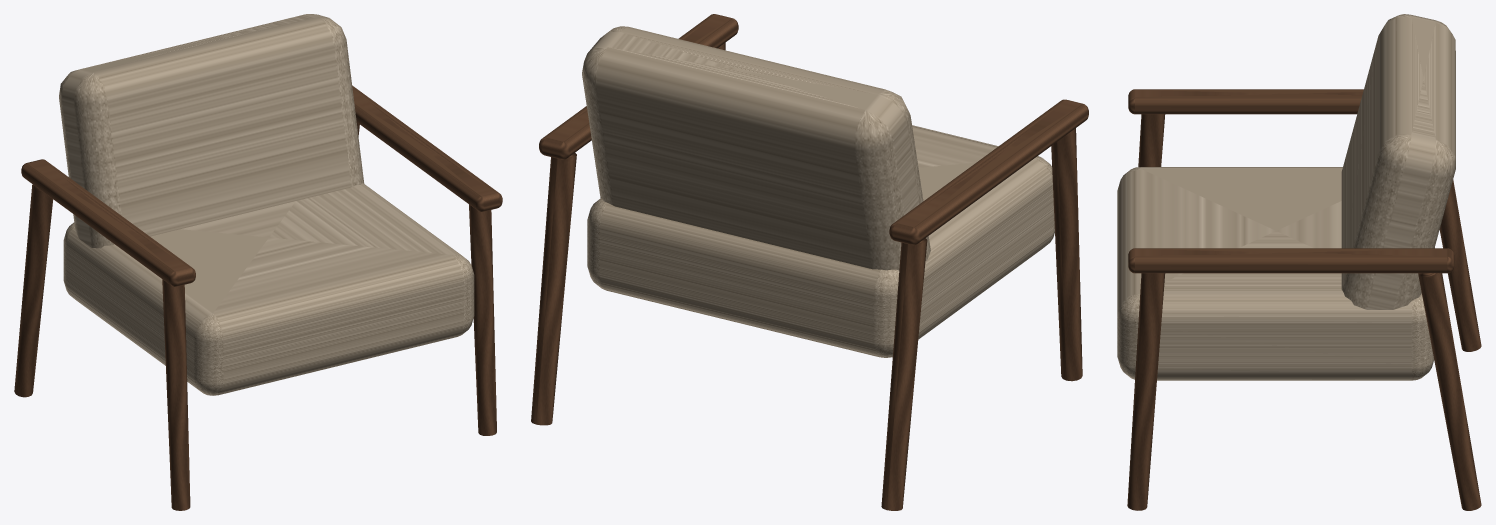
The model's file is obj_birim_armchair.glb.
The picture shows the model from 3 angles, left to right: view 1: azimuth 30°, elevation 25°; view 2: azimuth 150°, elevation 25°; view 3: azimuth 270°, elevation 25°; orthographic projection. The views are drawn at different scales.
Visible parts, largest first — view 1: obj_birim_armchair; view 2: obj_birim_armchair; view 3: obj_birim_armchair.
Part boxes in pixels (box(x1,y1,x2,y2)): obj_birim_armchair: box(14, 14, 502, 510); obj_birim_armchair: box(531, 14, 1088, 510); obj_birim_armchair: box(1117, 14, 1481, 510).
Size of the model in its own units: 0.82 by 0.7825 by 0.7317.
2 materials, 2 textured.
